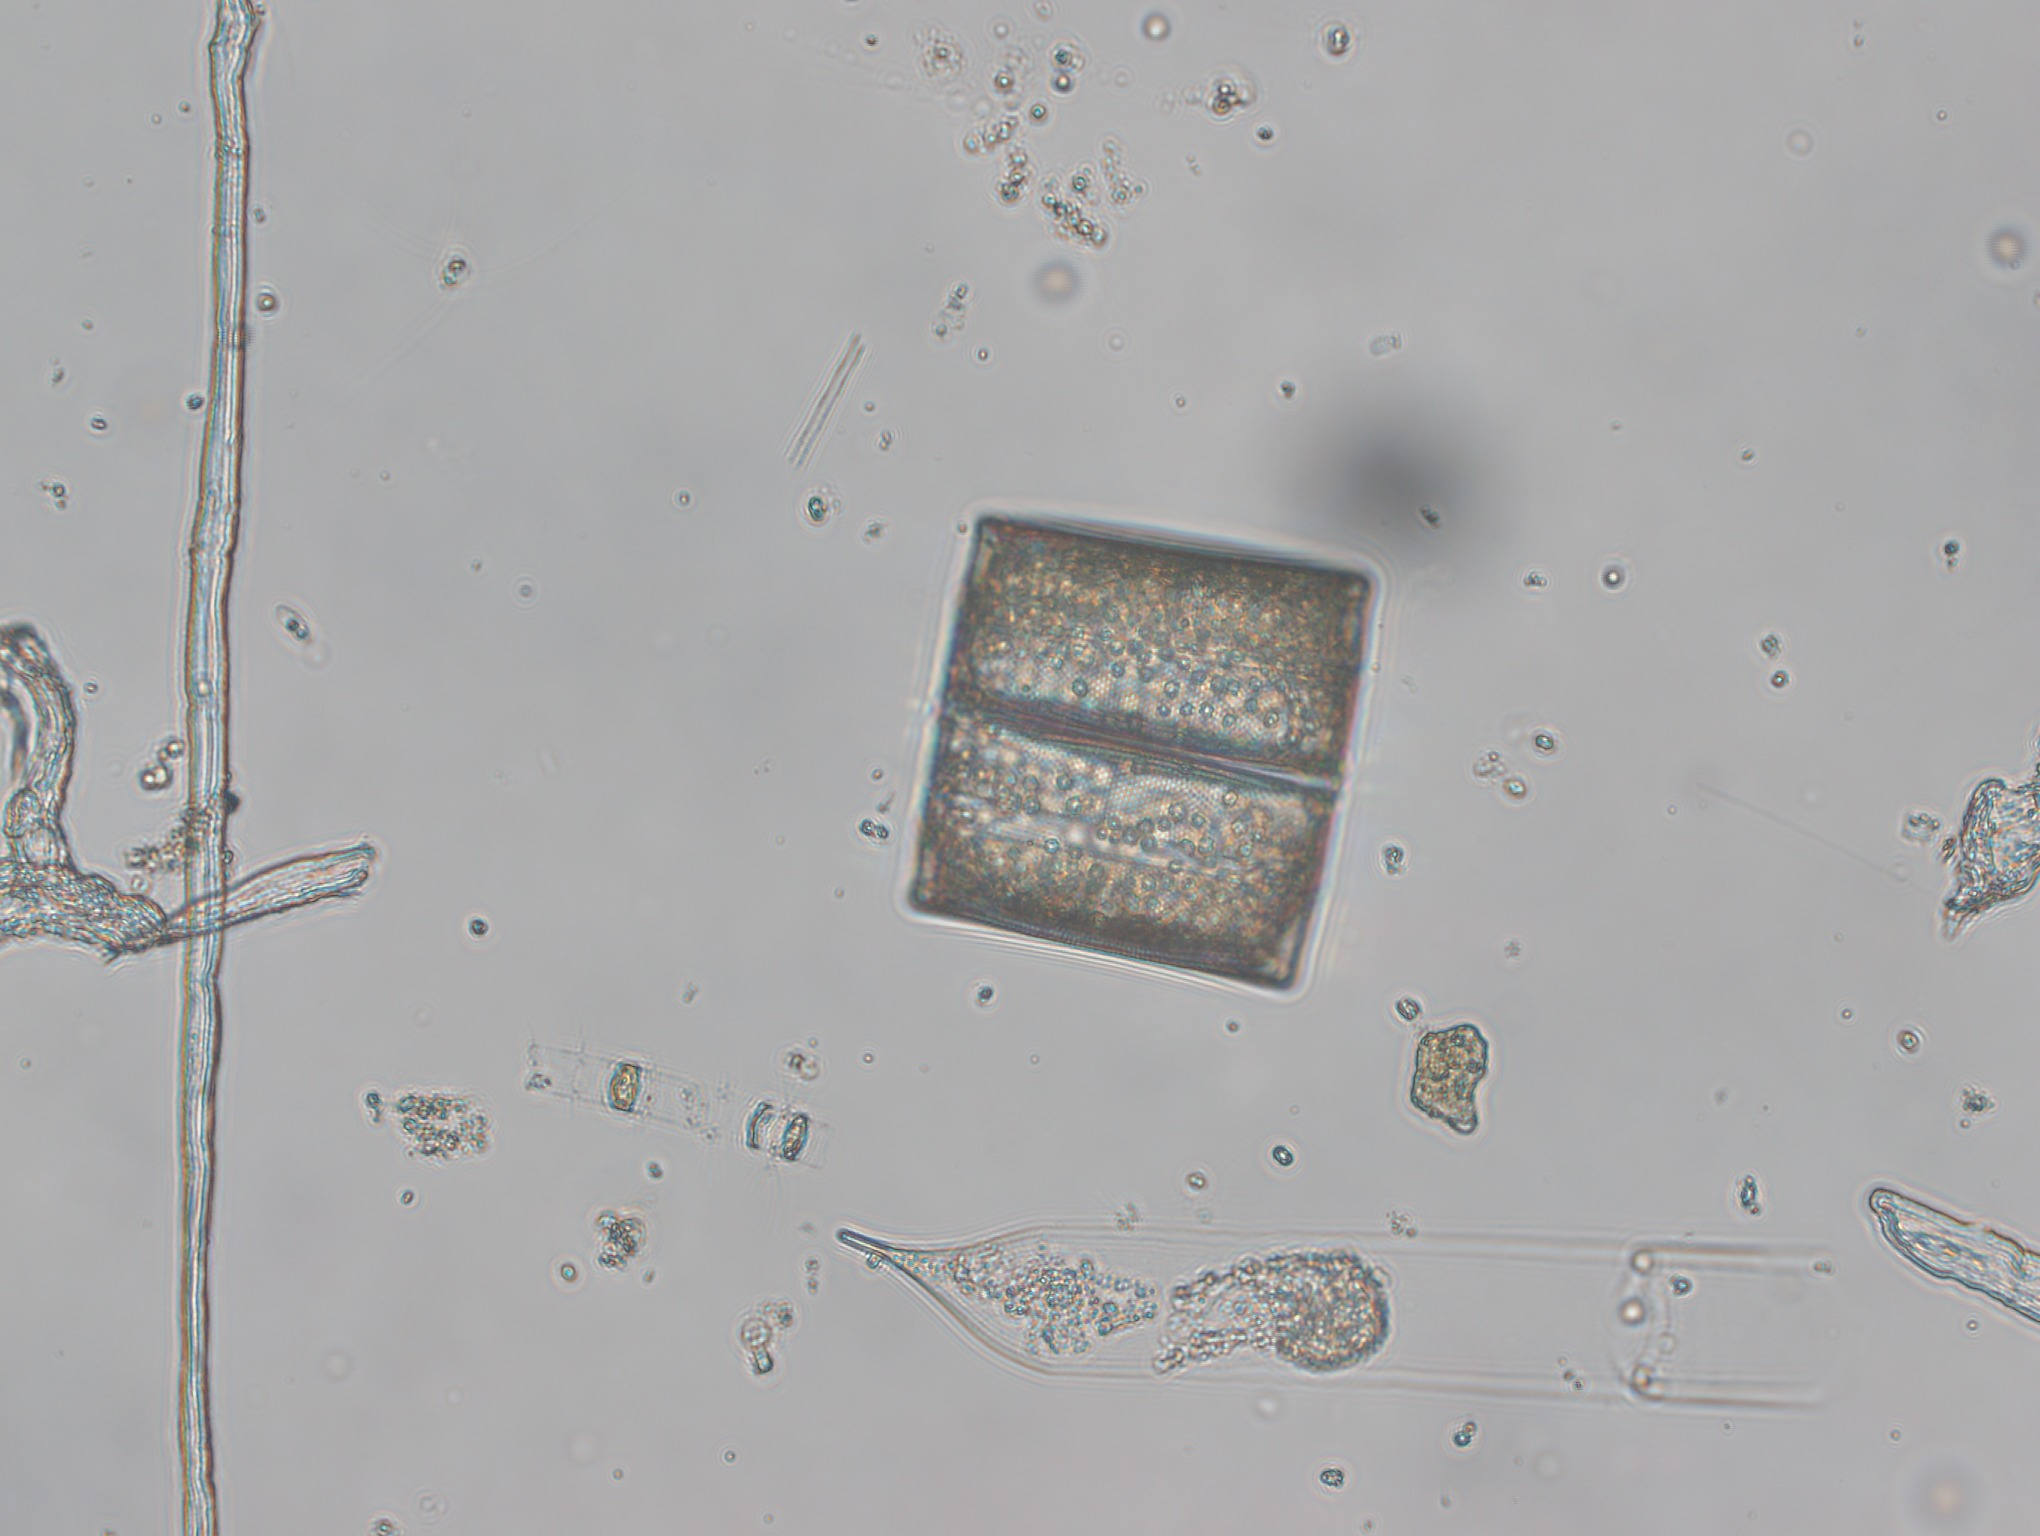chaetoceros: (524, 1028, 839, 1181)
coscinodiscus flank: (900, 510, 1384, 1002)
rhizosolenia: (834, 1220, 1846, 1418)
